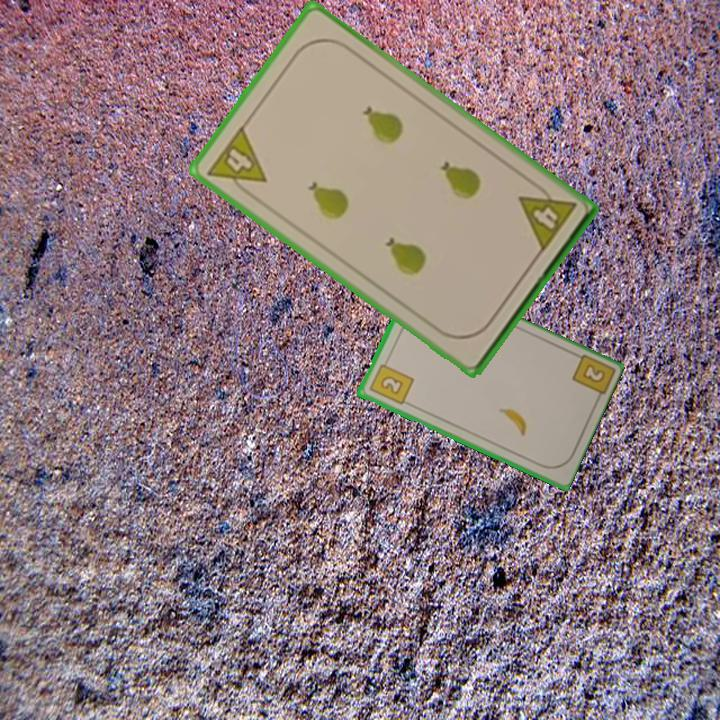2b: (365, 356, 416, 408), (578, 360, 608, 386)
4p: (203, 122, 270, 202), (513, 177, 579, 256)
